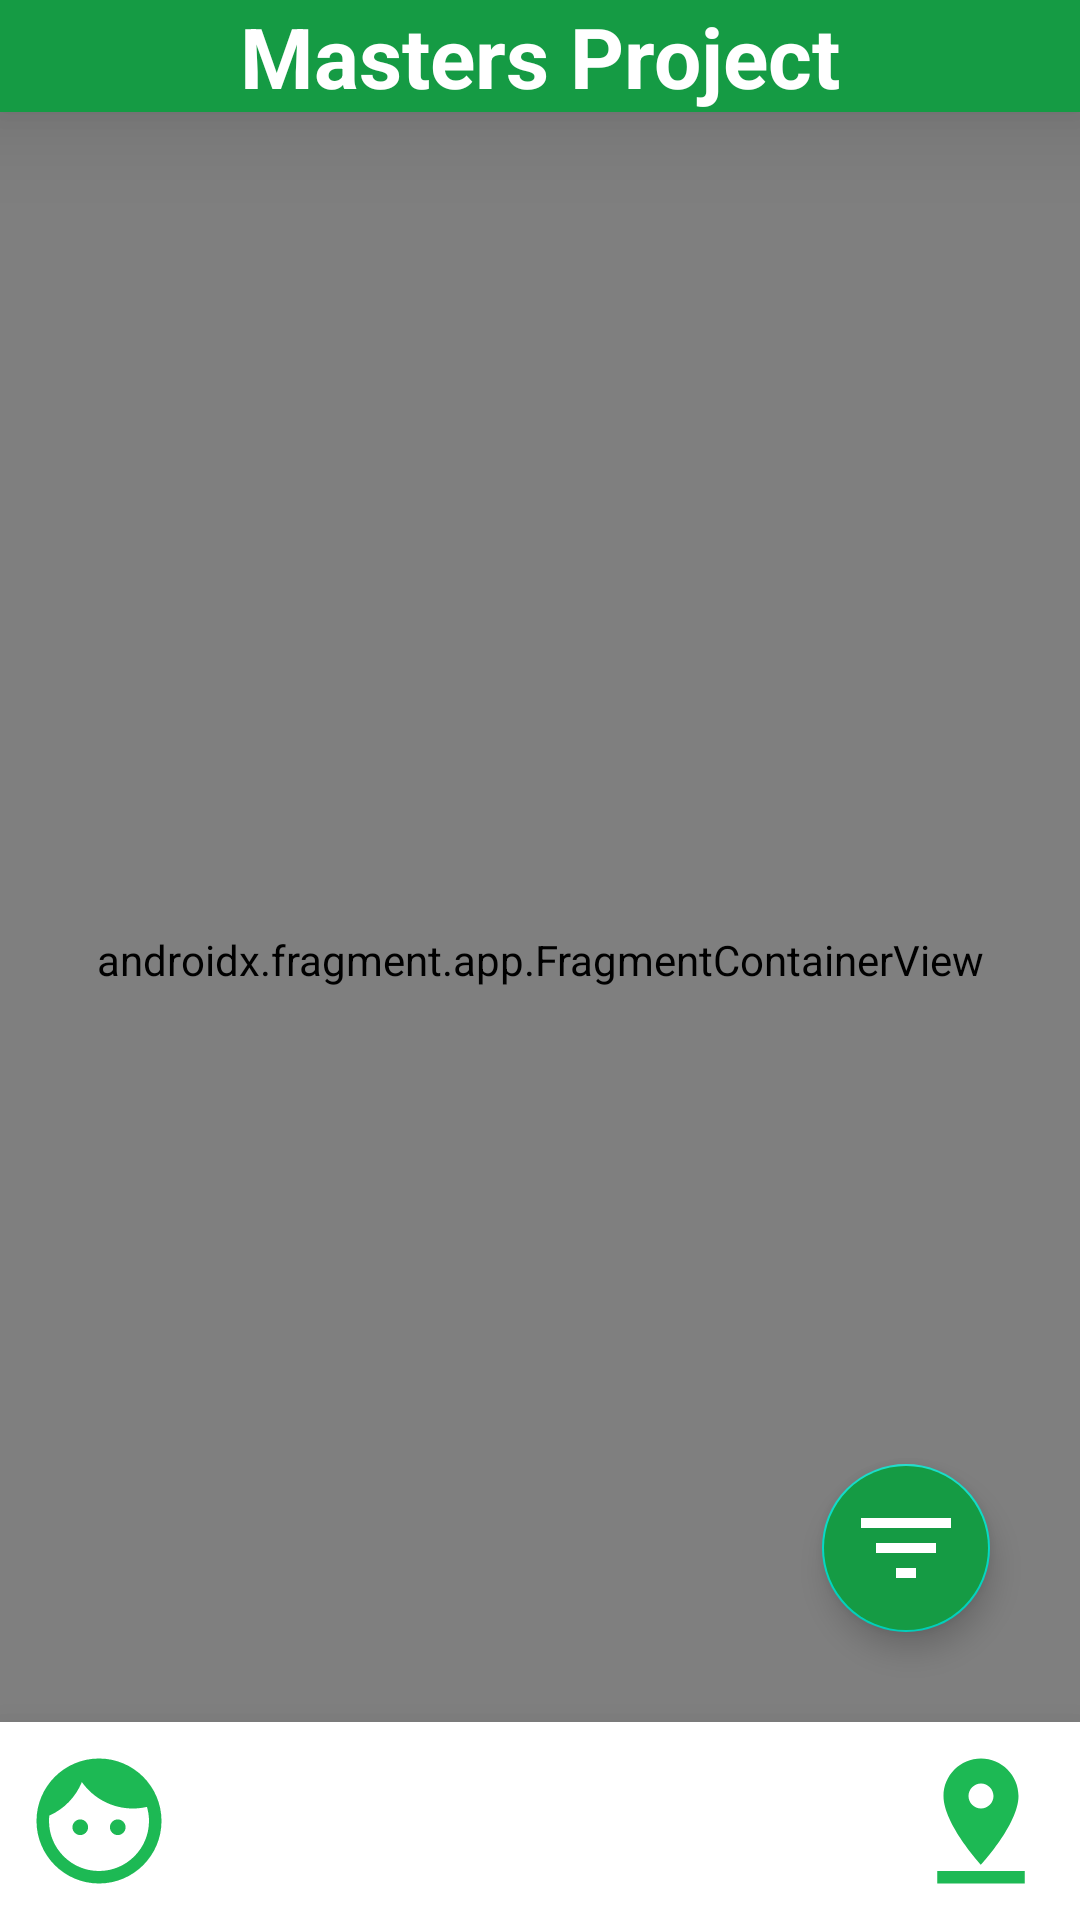

Icons on this 1080×1920 Android screen, each with the point to tap as (x=x, y=y):
face: (x=99, y=1821)
filter list: (x=906, y=1548)
pin drop: (x=981, y=1821)
